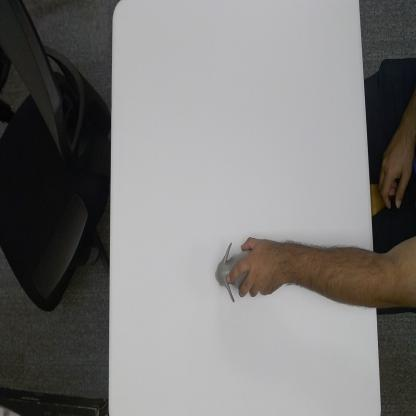Arm: (283, 239, 376, 310)
Elephant: (215, 241, 251, 301)
Hand: (226, 233, 283, 299)
